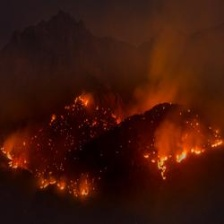fire: (5, 146, 92, 200), (148, 139, 217, 170), (71, 93, 108, 113)
